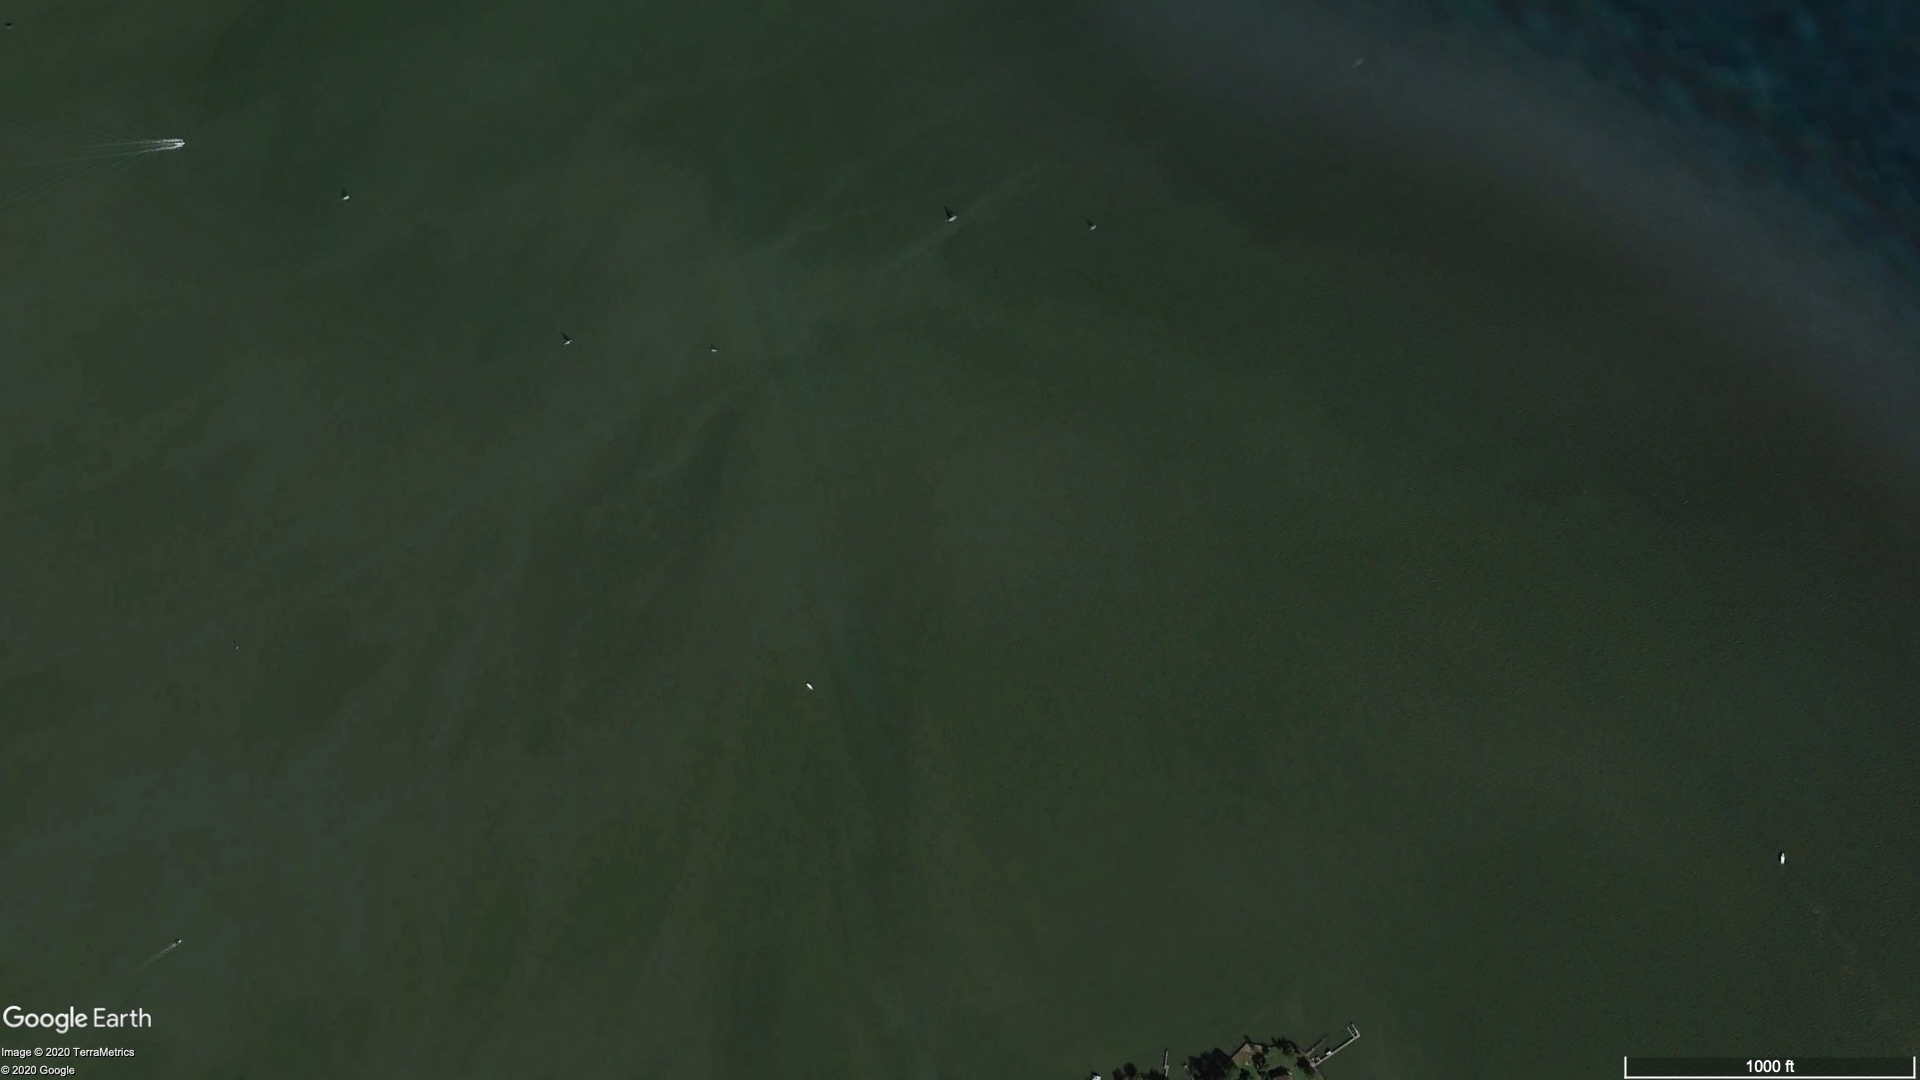boat: (1785, 1002, 1797, 1015), (1025, 485, 1035, 497), (138, 170, 146, 179), (1602, 886, 1610, 894), (1505, 32, 1511, 40), (1520, 51, 1527, 59), (1466, 174, 1476, 179), (1610, 22, 1615, 30), (1531, 36, 1536, 42), (256, 92, 262, 98), (1494, 20, 1498, 26), (926, 26, 932, 30), (1532, 21, 1536, 26), (679, 135, 682, 138)
